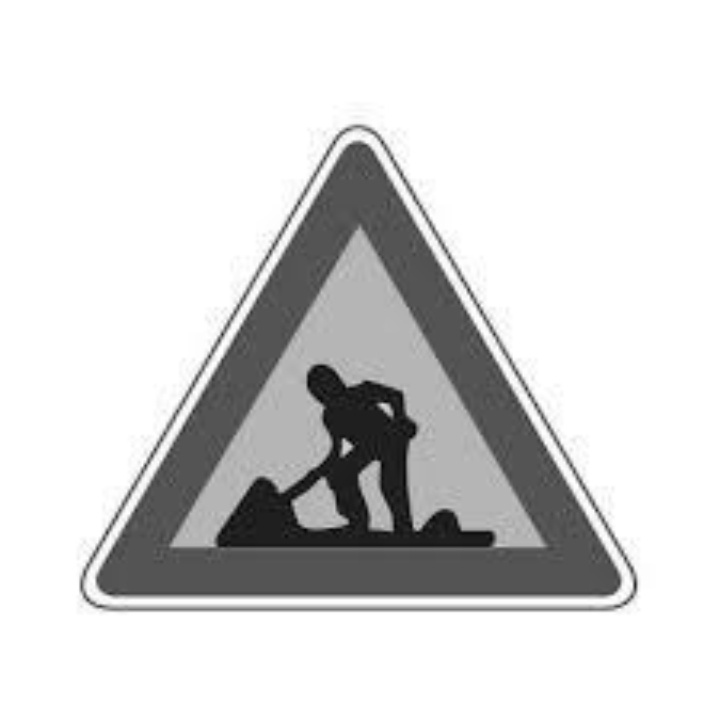const: (183, 284, 562, 596)
